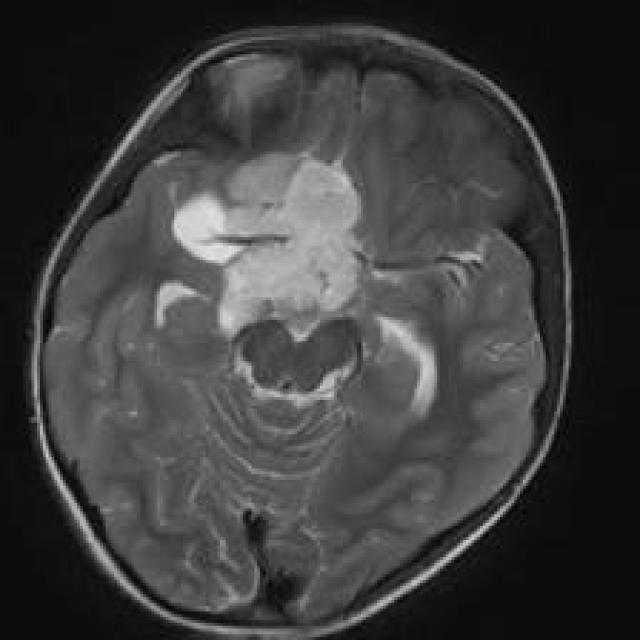glioma_tumor: (162, 147, 388, 338)
